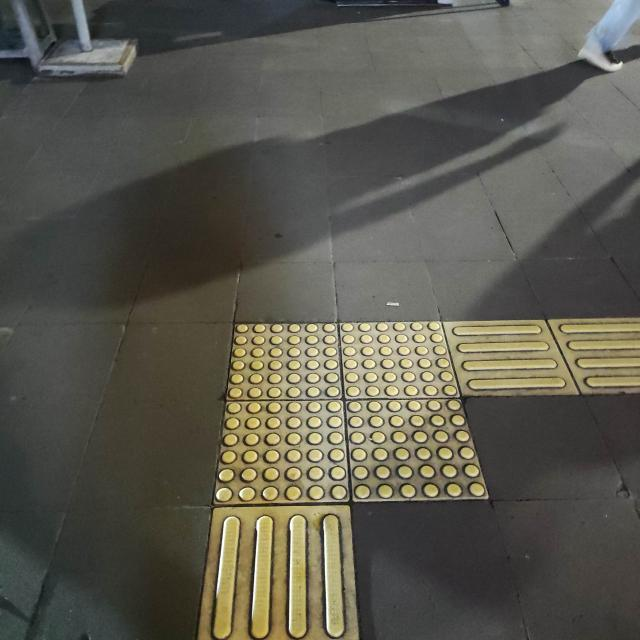kanan: (193, 258, 640, 577)
